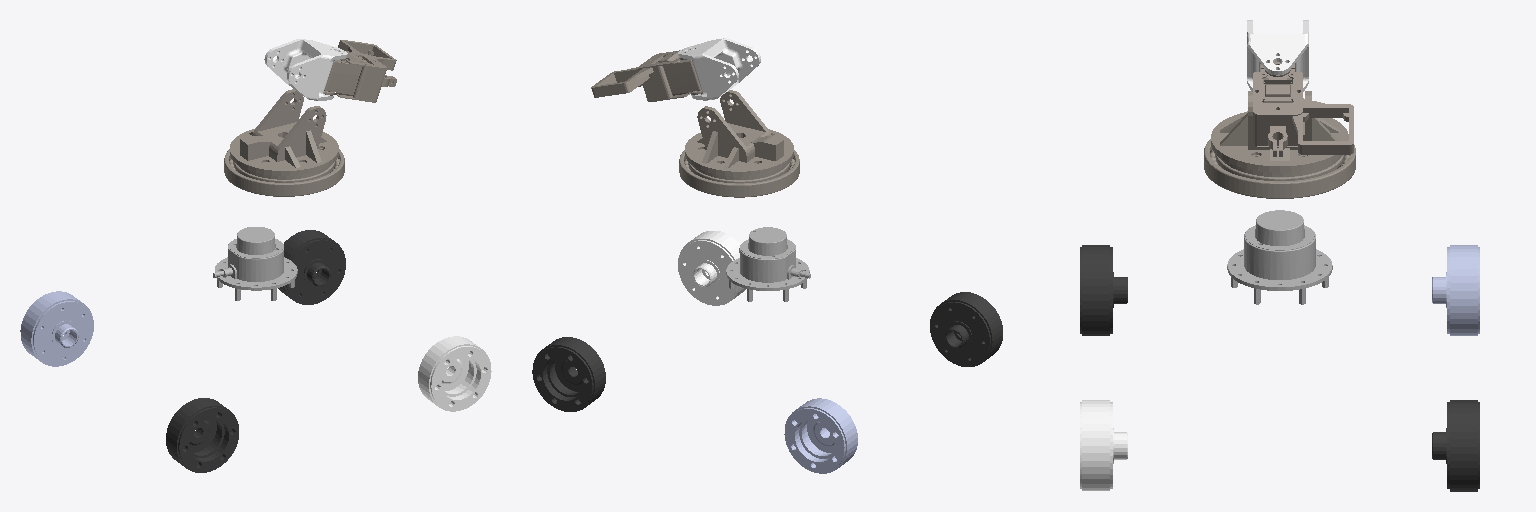
The robot description file, URDF, robot "robot_description":
<?xml version="1.0" encoding="utf-8"?>
<!-- This URDF was automatically created by SolidWorks to URDF Exporter! Originally created by Stephen Brawner (brawner@gmail.com) 
     Commit Version: 1.6.0-4-g7f85cfe  Build Version: 1.6.7995.38578
     For more information, please see http://wiki.ros.org/sw_urdf_exporter -->
<robot
  name="robot_description">
  <link
    name="base_link">
    <inertial>
      <origin
        xyz="-0.00905791492618441 -0.00048879545261838 0.0640826076134148"
        rpy="0 0 0" />
      <mass
        value="3.02079029985786" />
      <inertia
        ixx="0.00474591028920992"
        ixy="3.51756557073059E-06"
        ixz="9.25187315000008E-07"
        iyy="0.00495134636176053"
        iyz="-1.11927023054072E-07"
        izz="0.00929793533706231" />
    </inertial>
    <visual>
      <origin
        xyz="0 0 0"
        rpy="0 0 0" />
      <geometry>
        <mesh
          filename="package://robot_description/meshes/base_link.STL" />
      </geometry>
      <material
        name="">
        <color
          rgba="1 1 1 1" />
      </material>
    </visual>
    <collision>
      <origin
        xyz="0 0 0"
        rpy="0 0 0" />
      <geometry>
        <mesh
          filename="package://robot_description/meshes/base_link.STL" />
      </geometry>
    </collision>
  </link>
  <link
    name="rader_link">
    <inertial>
      <origin
        xyz="-3.28944182989686E-09 -2.79918769547234E-09 -0.034597418415799"
        rpy="0 0 0" />
      <mass
        value="0.0197577859576288" />
      <inertia
        ixx="4.82189534964696E-06"
        ixy="2.4843692832474E-14"
        ixz="2.38955057703625E-14"
        iyy="4.82189520756809E-06"
        iyz="2.28917153671377E-15"
        izz="9.36232732215207E-06" />
    </inertial>
    <visual>
      <origin
        xyz="0 0 0"
        rpy="0 0 0" />
      <geometry>
        <mesh
          filename="package://robot_description/meshes/rader_link.STL" />
      </geometry>
      <material
        name="">
        <color
          rgba="0.752941176470588 0.752941176470588 0.752941176470588 1" />
      </material>
    </visual>
    <collision>
      <origin
        xyz="0 0 0"
        rpy="0 0 0" />
      <geometry>
        <mesh
          filename="package://robot_description/meshes/rader_link.STL" />
      </geometry>
    </collision>
  </link>
  <joint
    name="rader"
    type="fixed">
    <origin
      xyz="-0.000482541160108889 0 0.111874126705049"
      rpy="0 0 0" />
    <parent
      link="base_link" />
    <child
      link="rader_link" />
    <axis
      xyz="0 0 0" />
  </joint>
  <link
    name="arm0_Link">
    <inertial>
      <origin
        xyz="5.27072674210878E-05 2.44899852147004E-05 0.0113815325455087"
        rpy="0 0 0" />
      <mass
        value="0.469376261813121" />
      <inertia
        ixx="0.000439903649212313"
        ixy="6.19012321475891E-08"
        ixz="-2.10717922407627E-06"
        iyy="0.000442080302381443"
        iyz="-3.85248786322146E-11"
        izz="0.000856561950617974" />
    </inertial>
    <visual>
      <origin
        xyz="0 0 0"
        rpy="0 0 0" />
      <geometry>
        <mesh
          filename="package://robot_description/meshes/arm0_Link.STL" />
      </geometry>
      <material
        name="">
        <color
          rgba="0.647058823529412 0.619607843137255 0.588235294117647 1" />
      </material>
    </visual>
    <collision>
      <origin
        xyz="0 0 0"
        rpy="0 0 0" />
      <geometry>
        <mesh
          filename="package://robot_description/meshes/arm0_Link.STL" />
      </geometry>
    </collision>
  </link>
  <joint
    name="arm0"
    type="continuous">
    <origin
      xyz="0.029517 0 0.17312"
      rpy="0 0 0" />
    <parent
      link="base_link" />
    <child
      link="arm0_Link" />
    <axis
      xyz="0 0 1" />
  </joint>
  <link
    name="arm1_Link">
    <inertial>
      <origin
        xyz="-0.105007520699909 0.00141630129950002 0.0187999997236219"
        rpy="0 0 0" />
      <mass
        value="0.190587416523155" />
      <inertia
        ixx="4.18380122417007E-05"
        ixy="-8.77952274186928E-06"
        ixz="-1.03900488935357E-08"
        iyy="0.000406432980248864"
        iyz="1.47785110944368E-11"
        izz="0.000424002018340858" />
    </inertial>
    <visual>
      <origin
        xyz="0 0 0"
        rpy="0 0 0" />
      <geometry>
        <mesh
          filename="package://robot_description/meshes/arm1_Link.STL" />
      </geometry>
      <material
        name="">
        <color
          rgba="0.792156862745098 0.819607843137255 0.933333333333333 1" />
      </material>
    </visual>
    <collision>
      <origin
        xyz="0 0 0"
        rpy="0 0 0" />
      <geometry>
        <mesh
          filename="package://robot_description/meshes/arm1_Link.STL" />
      </geometry>
    </collision>
  </link>
  <joint
    name="arm1"
    type="revolute">
    <origin
      xyz="0.02 0.0183 0.0595"
      rpy="1.5708 0 0" />
    <parent
      link="arm0_Link" />
    <child
      link="arm1_Link" />
    <axis
      xyz="0 0 1" />
    <limit
      lower="-210"
      upper="0"
      effort="1"
      velocity="3" />
  </joint>
  <link
    name="arm2_Link">
    <inertial>
      <origin
        xyz="0.100452933531141 0.0447481992436755 -0.0181893617440155"
        rpy="0 0 0" />
      <mass
        value="0.164248712945773" />
      <inertia
        ixx="3.52887905356114E-05"
        ixy="-2.00181663560874E-05"
        ixz="5.21115865733232E-09"
        iyy="0.00029554091042407"
        iyz="-3.44733343118781E-10"
        izz="0.000308884693204528" />
    </inertial>
    <visual>
      <origin
        xyz="0 0 0"
        rpy="0 0 0" />
      <geometry>
        <mesh
          filename="package://robot_description/meshes/arm2_Link.STL" />
      </geometry>
      <material
        name="">
        <color
          rgba="0.752941176470588 0.752941176470588 0.752941176470588 1" />
      </material>
    </visual>
    <collision>
      <origin
        xyz="0 0 0"
        rpy="0 0 0" />
      <geometry>
        <mesh
          filename="package://robot_description/meshes/arm2_Link.STL" />
      </geometry>
    </collision>
  </link>
  <joint
    name="arm2"
    type="revolute">
    <origin
      xyz="-0.2143 0 0.0376"
      rpy="0 0 0" />
    <parent
      link="arm1_Link" />
    <child
      link="arm2_Link" />
    <axis
      xyz="0 0 -1" />
    <limit
      lower="0"
      upper="270"
      effort="1"
      velocity="3" />
  </joint>
  <link
    name="arm3_Link">
    <inertial>
      <origin
        xyz="0.0244536401537439 -0.00936117127044878 -0.0184330937237555"
        rpy="0 0 0" />
      <mass
        value="0.0312238812156414" />
      <inertia
        ixx="1.29974199440285E-05"
        ixy="-6.86664871709035E-07"
        ixz="-9.49084586729451E-09"
        iyy="1.14173396064605E-05"
        iyz="4.27514678278349E-09"
        izz="1.12196896445588E-05" />
    </inertial>
    <visual>
      <origin
        xyz="0 0 0"
        rpy="0 0 0" />
      <geometry>
        <mesh
          filename="package://robot_description/meshes/arm3_Link.STL" />
      </geometry>
      <material
        name="">
        <color
          rgba="1 1 1 1" />
      </material>
    </visual>
    <collision>
      <origin
        xyz="0 0 0"
        rpy="0 0 0" />
      <geometry>
        <mesh
          filename="package://robot_description/meshes/arm3_Link.STL" />
      </geometry>
    </collision>
  </link>
  <joint
    name="arm3"
    type="revolute">
    <origin
      xyz="0.1952 0.047998 0.00049999"
      rpy="0.008727 -0.008726 -7.6152E-05" />
    <parent
      link="arm2_Link" />
    <child
      link="arm3_Link" />
    <axis
      xyz="-0.0087259 -0.0087265 -0.99992" />
    <limit
      lower="0"
      upper="100"
      effort="1"
      velocity="3" />
  </joint>
  <link
    name="arm4_Link">
    <inertial>
      <origin
        xyz="0.0347390660832254 -0.00413801035110373 -0.0209305899241809"
        rpy="0 0 0" />
      <mass
        value="0.0522475609220887" />
      <inertia
        ixx="1.36823938363057E-05"
        ixy="2.665748190484E-06"
        ixz="8.3939485420574E-07"
        iyy="9.7930902785614E-06"
        iyz="-1.69593151779166E-06"
        izz="1.75606392264605E-05" />
    </inertial>
    <visual>
      <origin
        xyz="0 0 0"
        rpy="0 0 0" />
      <geometry>
        <mesh
          filename="package://robot_description/meshes/arm4_Link.STL" />
      </geometry>
      <material
        name="">
        <color
          rgba="0.650980392156863 0.619607843137255 0.588235294117647 1" />
      </material>
    </visual>
    <collision>
      <origin
        xyz="0 0 0"
        rpy="0 0 0" />
      <geometry>
        <mesh
          filename="package://robot_description/meshes/arm4_Link.STL" />
      </geometry>
    </collision>
  </link>
  <joint
    name="arm4"
    type="revolute">
    <origin
      xyz="0.039893 -0.034669 -0.018347"
      rpy="1.5682 0.0050959 -0.36648" />
    <parent
      link="arm3_Link" />
    <child
      link="arm4_Link" />
    <axis
      xyz="-0.0087259 -0.0087265 -0.99992" />
    <limit
      lower="-90"
      upper="90"
      effort="1"
      velocity="3" />
  </joint>
  <link
    name="LFs_Link">
    <inertial>
      <origin
        xyz="-3.43163860955231E-06 0.00109461798465368 -0.0424747271051242"
        rpy="0 0 0" />
      <mass
        value="0.114715980474315" />
      <inertia
        ixx="1.43428504258027E-05"
        ixy="1.07524358879434E-11"
        ixz="3.39918121350263E-12"
        iyy="2.96038469779692E-05"
        iyz="2.80080422216392E-10"
        izz="2.00828947608456E-05" />
    </inertial>
    <visual>
      <origin
        xyz="0 0 0"
        rpy="0 0 0" />
      <geometry>
        <mesh
          filename="package://robot_description/meshes/LFs_Link.STL" />
      </geometry>
      <material
        name="">
        <color
          rgba="1 0.949019607843137 0.898039215686275 1" />
      </material>
    </visual>
    <collision>
      <origin
        xyz="0 0 0"
        rpy="0 0 0" />
      <geometry>
        <mesh
          filename="package://robot_description/meshes/LFs_Link.STL" />
      </geometry>
    </collision>
  </link>
  <joint
    name="LFs"
    type="continuous">
    <origin
      xyz="0.13238 0.13286 0.055124"
      rpy="0 0 0" />
    <parent
      link="base_link" />
    <child
      link="LFs_Link" />
    <axis
      xyz="0 0 1" />
  </joint>
  <link
    name="LFd_Link">
    <inertial>
      <origin
        xyz="-1.03713609769795E-06 -4.22896943688333E-05 -0.0180040592152137"
        rpy="0 0 0" />
      <mass
        value="0.0555886189628007" />
      <inertia
        ixx="2.17656627943887E-05"
        ixy="1.87564066410979E-16"
        ixz="8.87300273678929E-17"
        iyy="2.17656627947915E-05"
        iyz="1.05868074019521E-16"
        izz="3.98658756411664E-05" />
    </inertial>
    <visual>
      <origin
        xyz="0 0 0"
        rpy="0 0 0" />
      <geometry>
        <mesh
          filename="package://robot_description/meshes/LFd_Link.STL" />
      </geometry>
      <material
        name="">
        <color
          rgba="0.298039215686275 0.298039215686275 0.298039215686275 1" />
      </material>
    </visual>
    <collision>
      <origin
        xyz="0 0 0"
        rpy="0 0 0" />
      <geometry>
        <mesh
          filename="package://robot_description/meshes/LFd_Link.STL" />
      </geometry>
    </collision>
  </link>
  <joint
    name="LFd"
    type="continuous">
    <origin
      xyz="0 -0.0192000070641395 -0.0549577103053597"
      rpy="1.5707963267949 0 0" />
    <parent
      link="LFs_Link" />
    <child
      link="LFd_Link" />
    <axis
      xyz="0 0 -1" />
  </joint>
  <link
    name="LRs_Link">
    <inertial>
      <origin
        xyz="-3.45841936111313E-06 0.00109460674573064 -0.0424747271155197"
        rpy="0 0 0" />
      <mass
        value="0.114715980835521" />
      <inertia
        ixx="1.43428504843719E-05"
        ixy="1.07530264452523E-11"
        ixz="3.39986454256356E-12"
        iyy="2.96038470107929E-05"
        iyz="2.80051427479439E-10"
        izz="2.00828947865514E-05" />
    </inertial>
    <visual>
      <origin
        xyz="0 0 0"
        rpy="0 0 0" />
      <geometry>
        <mesh
          filename="package://robot_description/meshes/LRs_Link.STL" />
      </geometry>
      <material
        name="">
        <color
          rgba="1 1 1 1" />
      </material>
    </visual>
    <collision>
      <origin
        xyz="0 0 0"
        rpy="0 0 0" />
      <geometry>
        <mesh
          filename="package://robot_description/meshes/LRs_Link.STL" />
      </geometry>
    </collision>
  </link>
  <joint
    name="LRs"
    type="continuous">
    <origin
      xyz="-0.13335 0.13286 0.055124"
      rpy="0 0 0" />
    <parent
      link="base_link" />
    <child
      link="LRs_Link" />
    <axis
      xyz="0 0 1" />
  </joint>
  <link
    name="LRd_Link">
    <inertial>
      <origin
        xyz="-0.265730905161732 -4.22896946383512E-05 -0.0180040587011506"
        rpy="0 0 0" />
      <mass
        value="0.0555886189628006" />
      <inertia
        ixx="2.17656627948538E-05"
        ixy="-7.90700739775054E-17"
        ixz="9.89705243100737E-17"
        iyy="2.17656627943267E-05"
        iyz="-8.71798972751167E-18"
        izz="3.98658756411665E-05" />
    </inertial>
    <visual>
      <origin
        xyz="0 0 0"
        rpy="0 0 0" />
      <geometry>
        <mesh
          filename="package://robot_description/meshes/LRd_Link.STL" />
      </geometry>
      <material
        name="">
        <color
          rgba="0.796078431372549 0.823529411764706 0.937254901960784 1" />
      </material>
    </visual>
    <collision>
      <origin
        xyz="0 0 0"
        rpy="0 0 0" />
      <geometry>
        <mesh
          filename="package://robot_description/meshes/LRd_Link.STL" />
      </geometry>
    </collision>
  </link>
  <joint
    name="LRd"
    type="continuous">
    <origin
      xyz="0.265730891387391 -0.0192000149036779 -0.05495771030536"
      rpy="1.5707963267949 0 0" />
    <parent
      link="LRs_Link" />
    <child
      link="LRd_Link" />
    <axis
      xyz="0 0 -1" />
  </joint>
  <link
    name="RFs_Link">
    <inertial>
      <origin
        xyz="3.442834212386E-06 -0.00109462301503802 -0.0424747271155205"
        rpy="0 0 0" />
      <mass
        value="0.114715980835538" />
      <inertia
        ixx="1.43428504843732E-05"
        ixy="1.07530264517196E-11"
        ixz="-3.3998646270191E-12"
        iyy="2.96038470107942E-05"
        iyz="-2.80051427387089E-10"
        izz="2.00828947865514E-05" />
    </inertial>
    <visual>
      <origin
        xyz="0 0 0"
        rpy="0 0 0" />
      <geometry>
        <mesh
          filename="package://robot_description/meshes/RFs_Link.STL" />
      </geometry>
      <material
        name="">
        <color
          rgba="1 1 1 1" />
      </material>
    </visual>
    <collision>
      <origin
        xyz="0 0 0"
        rpy="0 0 0" />
      <geometry>
        <mesh
          filename="package://robot_description/meshes/RFs_Link.STL" />
      </geometry>
    </collision>
  </link>
  <joint
    name="RFs"
    type="continuous">
    <origin
      xyz="0.13238 -0.13286 0.055124"
      rpy="0 0 0" />
    <parent
      link="base_link" />
    <child
      link="RFs_Link" />
    <axis
      xyz="0 0 1" />
  </joint>
  <link
    name="RFd_Link">
    <inertial>
      <origin
        xyz="1.05702960623288E-06 -4.22896943097495E-05 0.0180040579107738"
        rpy="0 0 0" />
      <mass
        value="0.0555886189628006" />
      <inertia
        ixx="2.17656627945638E-05"
        ixy="2.74003982607232E-16"
        ixz="-7.01210139433138E-17"
        iyy="2.17656627946164E-05"
        iyz="-1.23646984632624E-16"
        izz="3.98658756411663E-05" />
    </inertial>
    <visual>
      <origin
        xyz="0 0 0"
        rpy="0 0 0" />
      <geometry>
        <mesh
          filename="package://robot_description/meshes/RFd_Link.STL" />
      </geometry>
      <material
        name="">
        <color
          rgba="1 1 1 1" />
      </material>
    </visual>
    <collision>
      <origin
        xyz="0 0 0"
        rpy="0 0 0" />
      <geometry>
        <mesh
          filename="package://robot_description/meshes/RFd_Link.STL" />
      </geometry>
    </collision>
  </link>
  <joint
    name="RFd"
    type="continuous">
    <origin
      xyz="0 0.0192000000000008 -0.0549577103053633"
      rpy="1.5707963267949 0 0" />
    <parent
      link="RFs_Link" />
    <child
      link="RFd_Link" />
    <axis
      xyz="0 0 1" />
  </joint>
  <link
    name="RRs_Link">
    <inertial>
      <origin
        xyz="3.56441174936828E-06 -0.00113327767047003 -0.0438441812611075"
        rpy="0 0 0" />
      <mass
        value="0.110803165091198" />
      <inertia
        ixx="1.37587466407647E-05"
        ixy="1.07530264559055E-11"
        ixz="-3.39986462950903E-12"
        iyy="2.89883861963043E-05"
        iyz="-2.80051427347375E-10"
        izz="1.89090821817843E-05" />
    </inertial>
    <visual>
      <origin
        xyz="0 0 0"
        rpy="0 0 0" />
      <geometry>
        <mesh
          filename="package://robot_description/meshes/RRs_Link.STL" />
      </geometry>
      <material
        name="">
        <color
          rgba="1 1 1 1" />
      </material>
    </visual>
    <collision>
      <origin
        xyz="0 0 0"
        rpy="0 0 0" />
      <geometry>
        <mesh
          filename="package://robot_description/meshes/RRs_Link.STL" />
      </geometry>
    </collision>
  </link>
  <joint
    name="RRs"
    type="continuous">
    <origin
      xyz="-0.133347475742118 -0.132864934582008 0.0551241267050491"
      rpy="0 0 0" />
    <parent
      link="base_link" />
    <child
      link="RRs_Link" />
    <axis
      xyz="0 0 1" />
  </joint>
  <link
    name="RRd_Link">
    <inertial>
      <origin
        xyz="1.05702937763796E-06 -4.22896944295694E-05 0.0180040579107738"
        rpy="0 0 0" />
      <mass
        value="0.0555886189628006" />
      <inertia
        ixx="2.17656627943621E-05"
        ixy="-1.5373715368098E-16"
        ixz="2.70310893872721E-17"
        iyy="2.17656627948185E-05"
        iyz="-8.95623697886658E-17"
        izz="3.98658756411666E-05" />
    </inertial>
    <visual>
      <origin
        xyz="0 0 0"
        rpy="0 0 0" />
      <geometry>
        <mesh
          filename="package://robot_description/meshes/RRd_Link.STL" />
      </geometry>
      <material
        name="">
        <color
          rgba="0.298039215686275 0.298039215686275 0.298039215686275 1" />
      </material>
    </visual>
    <collision>
      <origin
        xyz="0 0 0"
        rpy="0 0 0" />
      <geometry>
        <mesh
          filename="package://robot_description/meshes/RRd_Link.STL" />
      </geometry>
    </collision>
  </link>
  <joint
    name="RRd"
    type="continuous">
    <origin
      xyz="0 0.0192000000000007 -0.0549577103053587"
      rpy="1.5707963267949 0 0" />
    <parent
      link="RRs_Link" />
    <child
      link="RRd_Link" />
    <axis
      xyz="0 0 1" />
  </joint>
</robot>

--- What the picture shows (computed from the rendered views, not written in the file) ---
Views: 3 orthographic renders of the robot side by side, from view 1: azimuth 30°, elevation 25°; view 2: azimuth 150°, elevation 25°; view 3: azimuth 270°, elevation 25°.
Model robot_description with 15 links and 14 joints (4 revolute, 9 continuous, 1 fixed), rooted at base_link, posed all joints at 0.
Links seen in each view (by area): view 1: arm0_Link, RFd_Link, LRd_Link, RRd_Link, rader_link, LFd_Link, arm4_Link, arm3_Link; view 2: arm0_Link, LRd_Link, LFd_Link, RRd_Link, rader_link, RFd_Link, arm4_Link, arm3_Link; view 3: arm0_Link, rader_link, arm4_Link, LFd_Link, RFd_Link, LRd_Link, RRd_Link, arm3_Link.
Link boxes in pixels (bbox=[...]): arm0_Link: bbox=[224, 89, 344, 196]; RFd_Link: bbox=[418, 336, 491, 411]; LRd_Link: bbox=[20, 291, 93, 366]; RRd_Link: bbox=[166, 398, 238, 472]; rader_link: bbox=[213, 227, 297, 300]; LFd_Link: bbox=[278, 230, 345, 304]; arm4_Link: bbox=[324, 40, 396, 102]; arm3_Link: bbox=[264, 39, 347, 100]; arm0_Link: bbox=[679, 90, 799, 197]; LRd_Link: bbox=[784, 398, 857, 473]; LFd_Link: bbox=[532, 337, 605, 411]; RRd_Link: bbox=[930, 292, 1002, 366]; rader_link: bbox=[726, 227, 810, 301]; RFd_Link: bbox=[678, 231, 745, 305]; arm4_Link: bbox=[591, 50, 701, 101]; arm3_Link: bbox=[678, 38, 760, 100]; arm0_Link: bbox=[1204, 91, 1355, 198]; rader_link: bbox=[1227, 210, 1332, 304]; arm4_Link: bbox=[1253, 62, 1353, 156]; LFd_Link: bbox=[1432, 400, 1479, 491]; RFd_Link: bbox=[1080, 400, 1127, 490]; LRd_Link: bbox=[1432, 245, 1479, 335]; RRd_Link: bbox=[1080, 245, 1127, 335]; arm3_Link: bbox=[1247, 20, 1308, 91].
Bounding box of the posed robot: 0.3319 × 0.2895 × 0.3269 m (x, y, z).
Meshes: 15 distinct files referenced, 8 mesh visuals loaded (8 binary STL); not drawn: 6 (reference not matched to a file when rendering), 1 (file found but could not be loaded).
